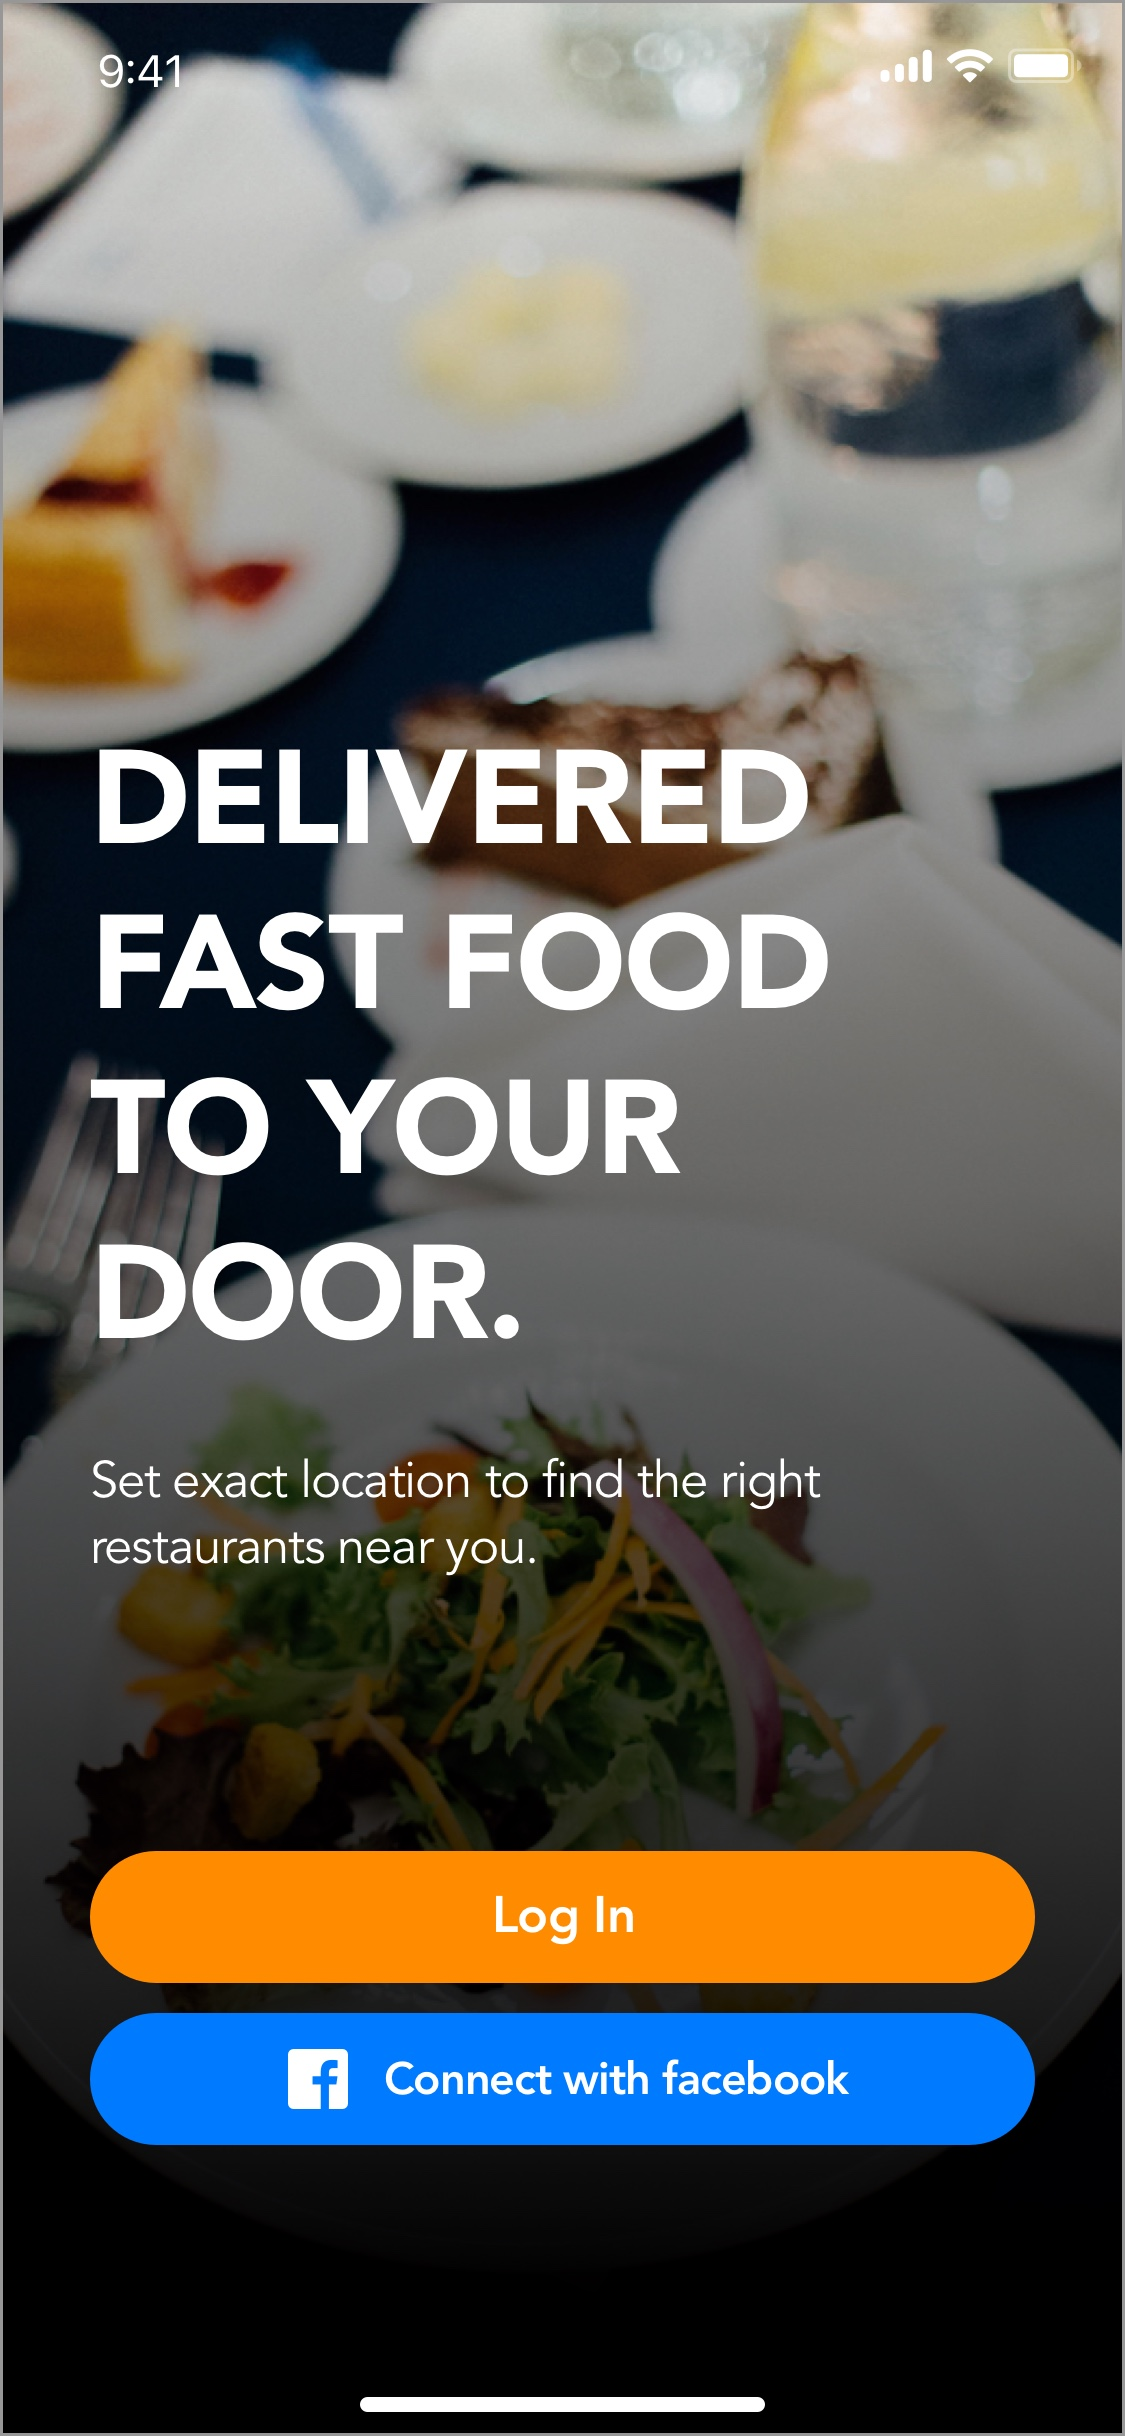BackgroundImage: (2, 2, 1125, 2436)
Text: (90, 747, 830, 1342), (92, 1457, 822, 1577)
TextButton: (90, 1850, 1036, 1984), (90, 2012, 1036, 2145)
UpperTaskBar: (99, 47, 1085, 92)
